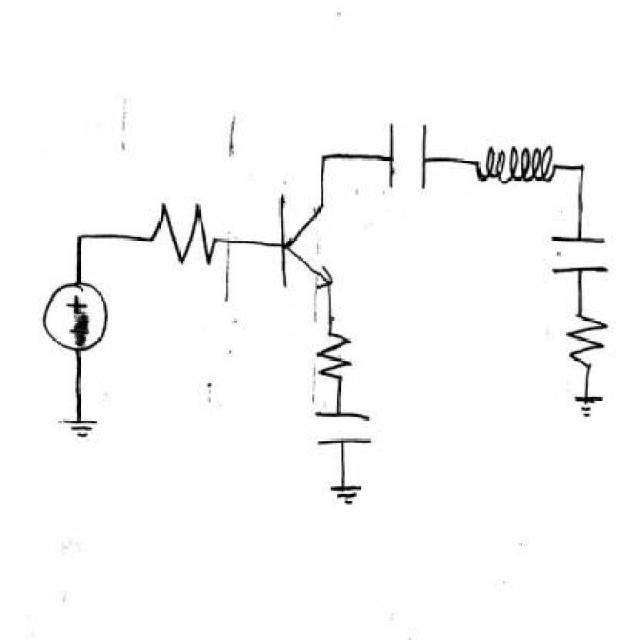capacitor: (381, 115, 438, 203), (539, 225, 617, 285), (310, 408, 382, 452)
ground: (56, 400, 110, 450), (572, 383, 614, 420), (326, 478, 370, 510)
inductor: (475, 118, 569, 198)
resistor: (146, 183, 226, 280), (559, 300, 611, 370), (308, 322, 362, 388)
transistor: (267, 188, 343, 298)
voltage_source: (36, 267, 123, 369)
